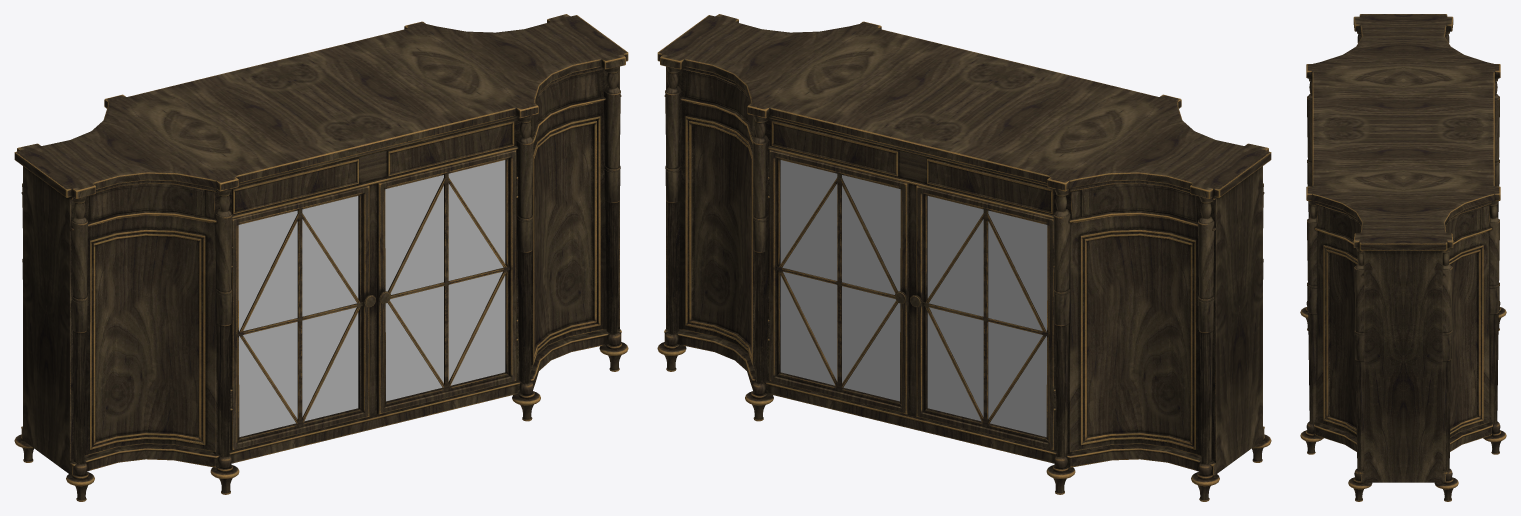
File: SM_Buffah1_DoubleDoor.fbx
3 renders of one model, left to right at view 1: azimuth 30°, elevation 25°; view 2: azimuth 150°, elevation 25°; view 3: azimuth 270°, elevation 25°, orthographic. The views are drawn at different scales.
Visible parts, largest first — view 1: SM_Buffah1_DoubleDoor_LOD0; view 2: SM_Buffah1_DoubleDoor_LOD0; view 3: SM_Buffah1_DoubleDoor_LOD0.
Boxes of the visible parts, <box> form: SM_Buffah1_DoubleDoor_LOD0: <box>14,14,628,501</box>; SM_Buffah1_DoubleDoor_LOD0: <box>657,14,1271,501</box>; SM_Buffah1_DoubleDoor_LOD0: <box>1300,14,1506,501</box>.
Size of the model in its own units: 196 by 74.23 by 104.
2 materials, 1 textured.
